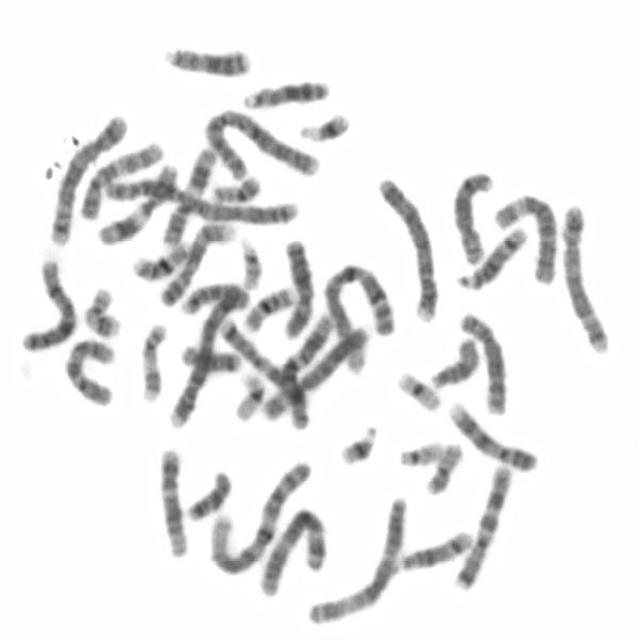A1: (206, 457, 314, 576), (320, 258, 398, 374)
A2: (99, 174, 301, 226), (199, 106, 322, 182)
A3: (303, 489, 409, 626), (255, 503, 329, 598)
B4: (164, 281, 243, 431), (374, 173, 440, 323)
B5: (45, 109, 128, 247), (558, 200, 611, 354)
C10: (74, 136, 166, 222), (61, 334, 119, 408)
C11: (94, 160, 178, 247), (158, 144, 218, 248)
C12: (277, 310, 337, 390), (157, 443, 190, 559)
C6: (257, 322, 370, 424), (489, 188, 559, 286)
C7: (217, 316, 311, 432), (449, 460, 514, 594)
C8: (456, 307, 509, 416), (448, 165, 496, 266)
C9: (155, 218, 235, 308), (445, 399, 538, 474)
D13: (160, 42, 250, 79), (239, 76, 329, 110)
D14: (453, 223, 530, 293), (396, 526, 473, 572)
D15: (426, 335, 481, 391), (176, 282, 254, 316)
E16: (240, 283, 297, 334), (129, 238, 191, 283)
E17: (136, 319, 168, 403), (81, 286, 125, 341)
E18: (183, 467, 233, 523), (178, 341, 242, 374)
F19: (394, 368, 442, 412), (231, 369, 267, 423)
F20: (421, 438, 465, 498), (207, 172, 263, 205)
G21: (336, 420, 379, 468), (295, 109, 352, 145)
G22: (394, 437, 446, 469), (236, 233, 264, 291)
X: (17, 255, 78, 354), (277, 234, 316, 341)
